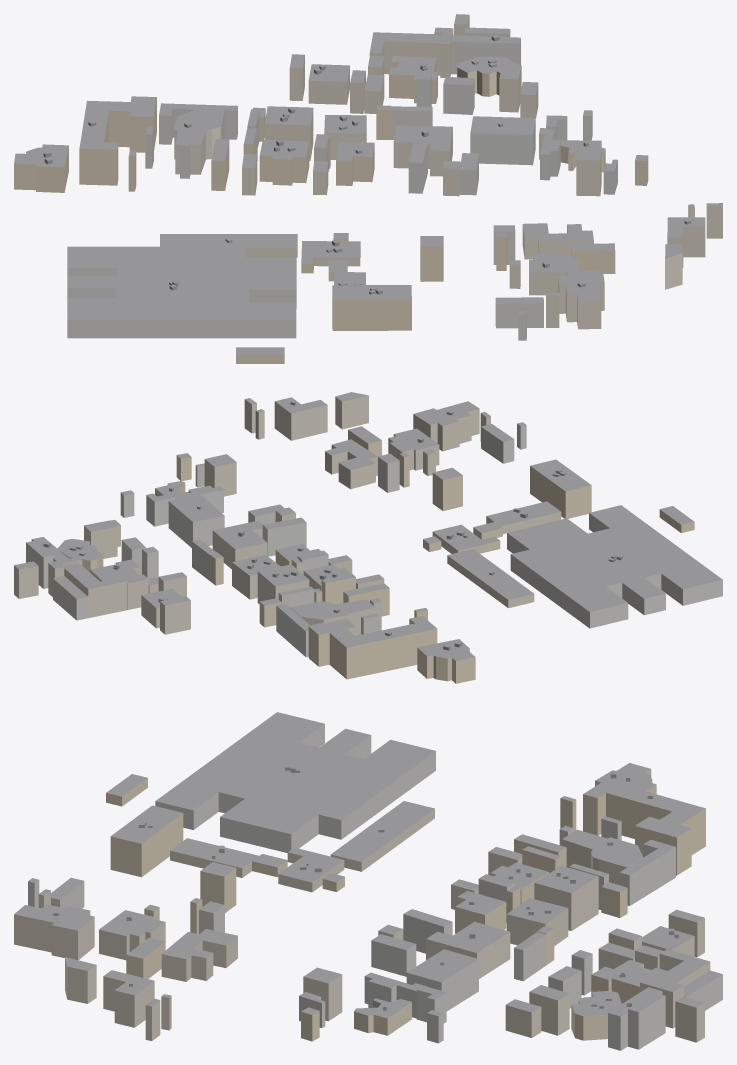
File: building_-4_-5.glb
The picture shows the model from 3 angles, top to bottom: view 1: azimuth 30°, elevation 25°; view 2: azimuth 150°, elevation 25°; view 3: azimuth 270°, elevation 25°; orthographic projection. The views are drawn at different scales.
Parts seen in each view (by area): view 1: roof, concrete_light, concrete_warm, sandstone; view 2: roof, concrete_warm, concrete_light, sandstone; view 3: roof, concrete_warm, concrete_light, sandstone.
Boxes of the visible parts, x1,y1,x2,y2 form: roof: (14,14,722,354); concrete_light: (67,30,617,340); concrete_warm: (174,16,722,329); sandstone: (14,58,648,363); roof: (14,392,722,660); concrete_warm: (14,395,561,635); concrete_light: (26,424,722,657); sandstone: (62,430,694,683); roof: (14,712,722,1018); concrete_warm: (14,809,710,1042); concrete_light: (28,724,722,1050); sandstone: (106,769,705,1041).
Bounding box in the file's own units: 278 × 16.79 × 261.
